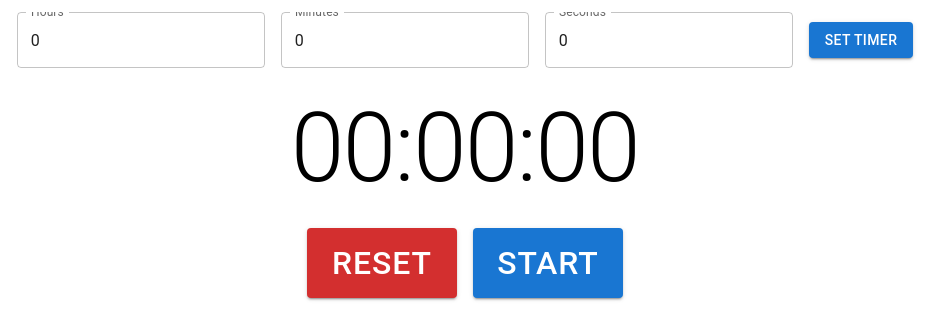
Test: TimerDisplay component - extended tests › reset stops timer and clears input
Replace the text in the number field labelled "Hours" with "1" at (141, 40), box [17,12,265,68]
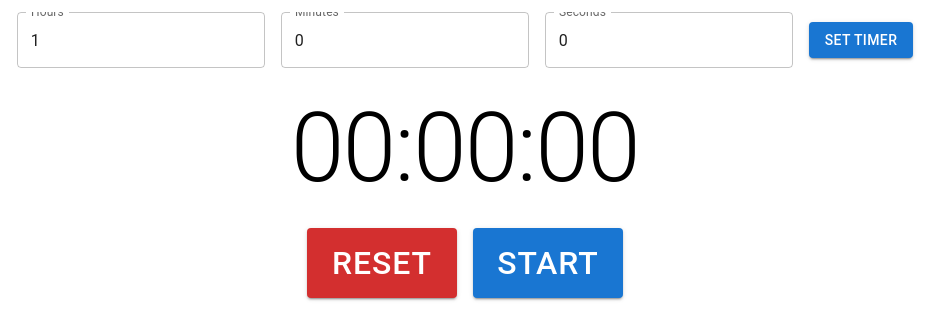
Replace the text in the number field labelled "Minutes" with "2" at (405, 40), box [281,12,529,68]
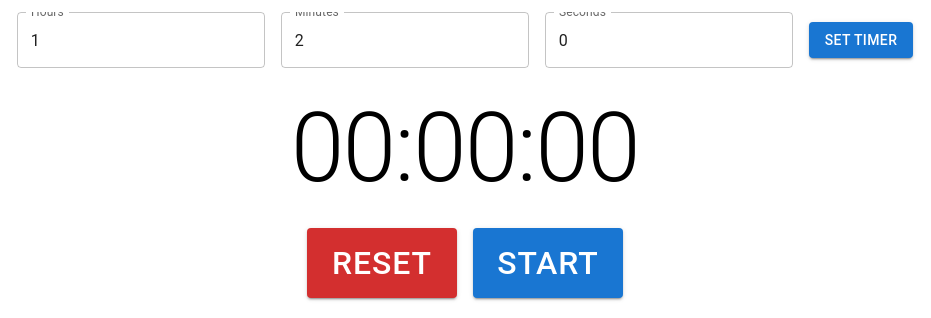
Replace the text in the number field labelled "Seconds" with "3" at (669, 40), box [545,12,793,68]
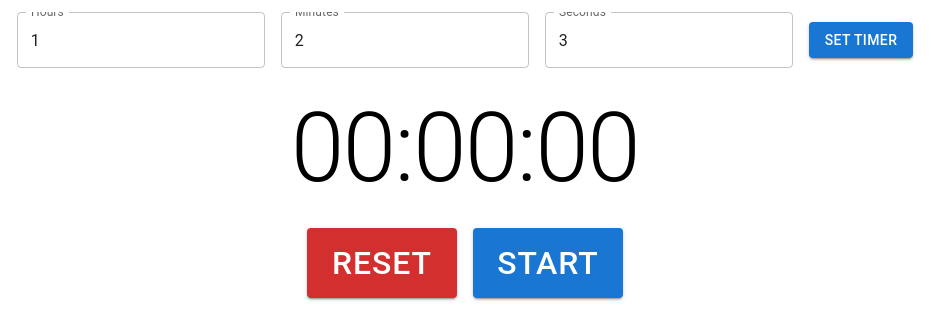
Click the button "Reset".
click(382, 263)  # box [307,228,457,298]
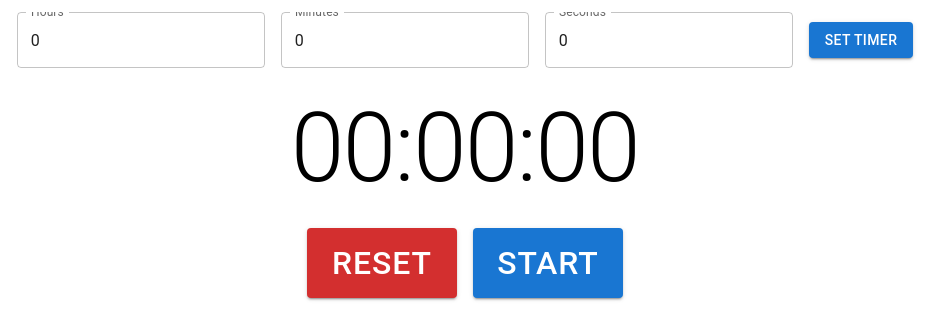
Expected: the number field labelled "Hours" holds "0", [17,12,265,68]
Expected: the number field labelled "Minutes" holds "0", [281,12,529,68]
Expected: the number field labelled "Seconds" holds "0", [545,12,793,68]
